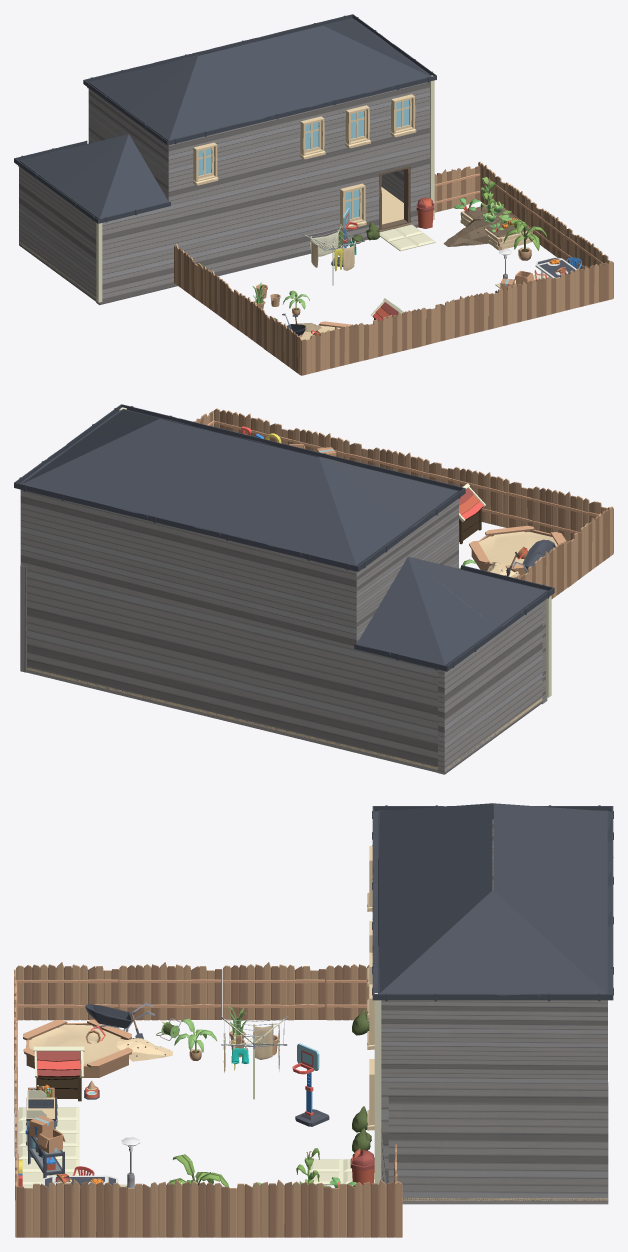
File: changj_01.fbx
3 renders of one model, top to bottom at view 1: azimuth 30°, elevation 25°; view 2: azimuth 150°, elevation 25°; view 3: azimuth 270°, elevation 25°, orthographic. The views are drawn at different scales.
Parts seen in each view (by area): view 1: polySurface3; view 2: polySurface3; view 3: polySurface3.
Part boxes in pixels (x1=…): polySurface3: x1=14, y1=14, x2=613, y2=375; polySurface3: x1=14, y1=404, x2=613, y2=774; polySurface3: x1=14, y1=803, x2=613, y2=1237.
Bounding box in the file's own units: 1.88 × 0.8544 × 1.74.
